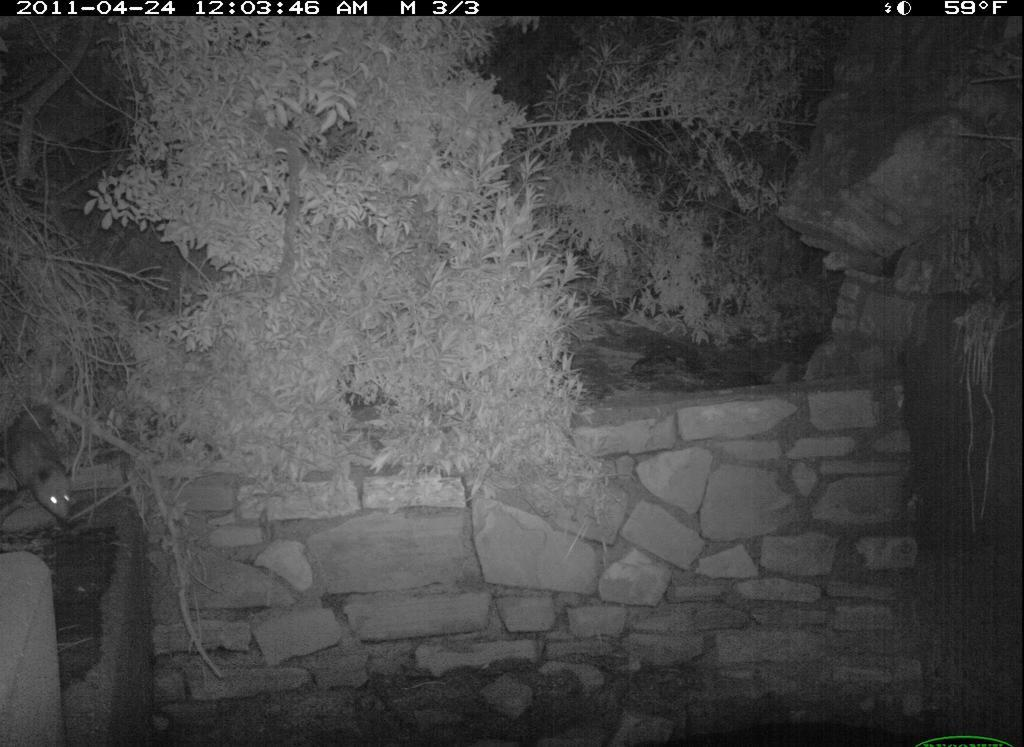opossum: (4, 399, 85, 536)
